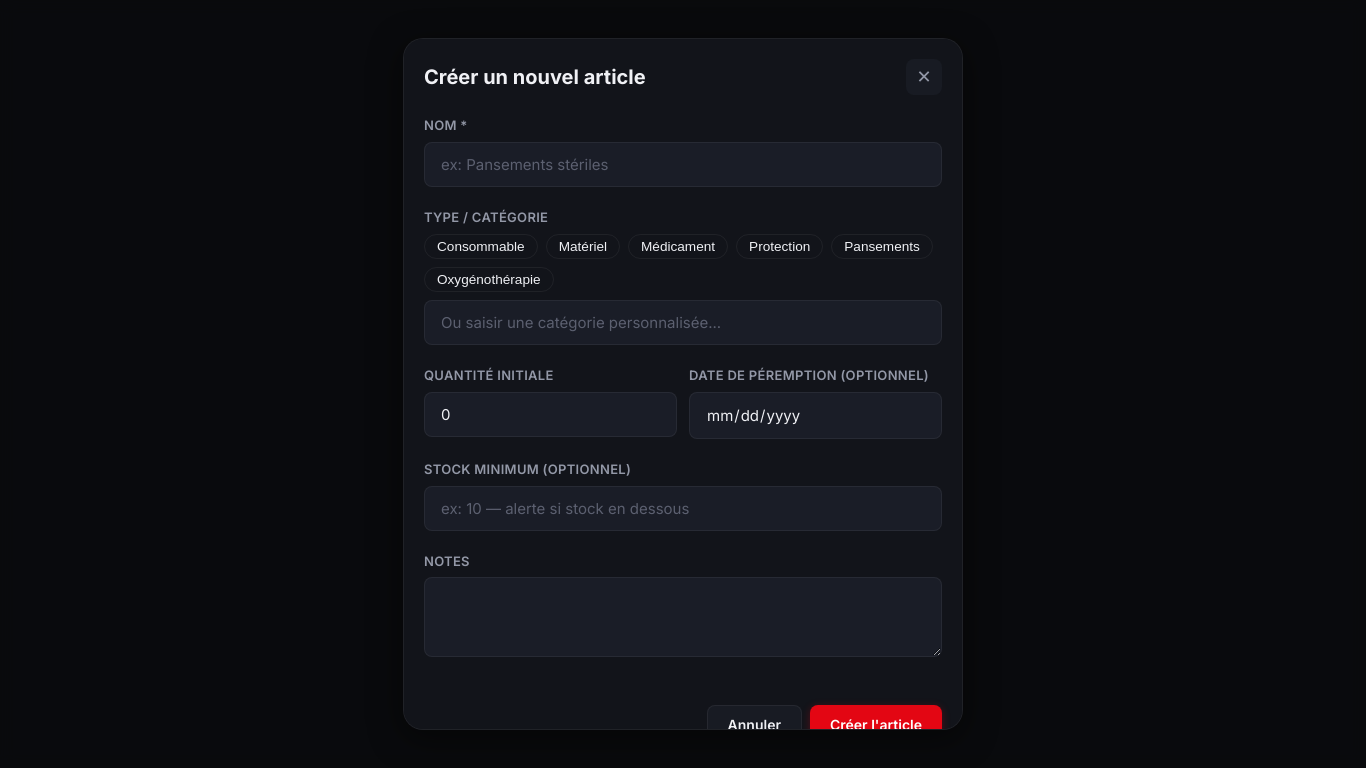
AddItemModal › sélectionne une catégorie prédéfinie au clic
This screenshot has width=1366, height=768.
Step 1. Click the button "Médicament" → (678, 246), box [628,234,728,259]
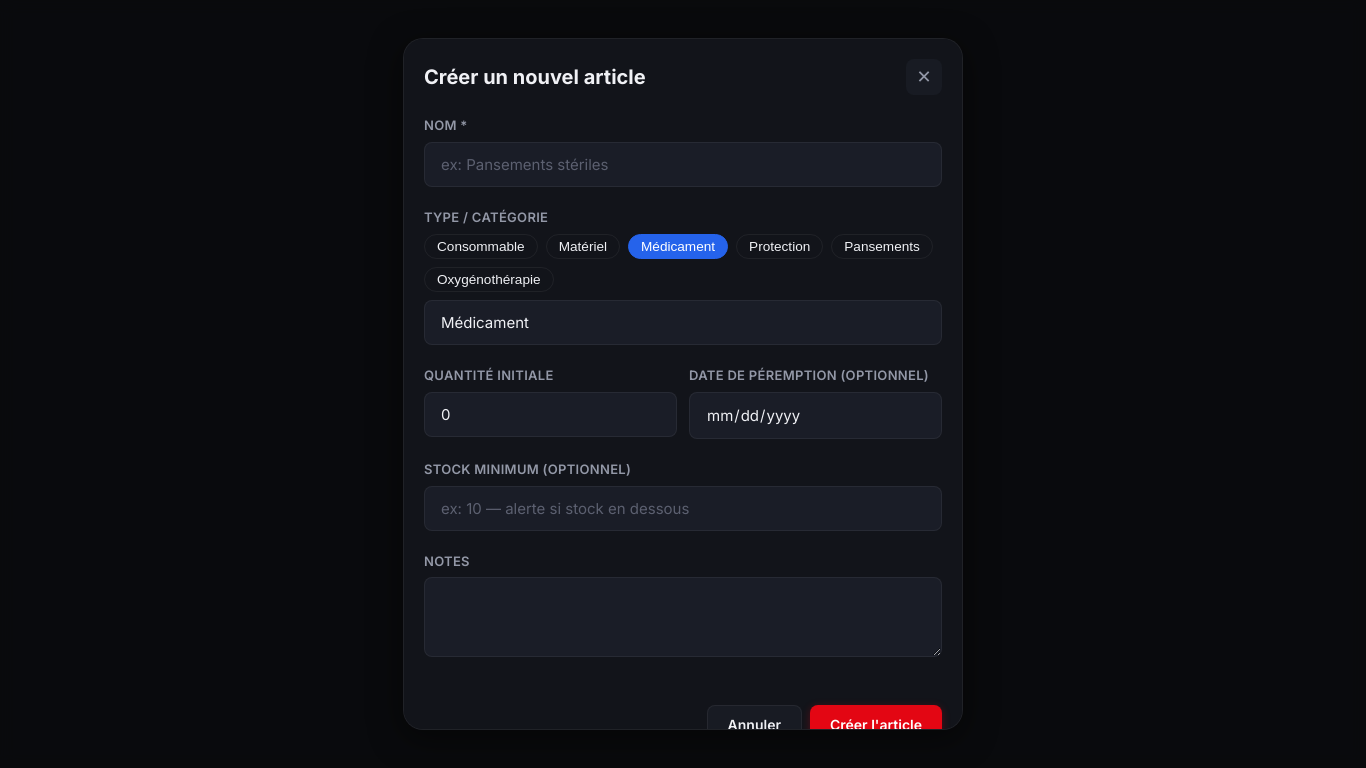
Now the field with placeholder "Ou saisir une catégorie personnalisée..." holds "Médicament", box [424,300,942,345]
